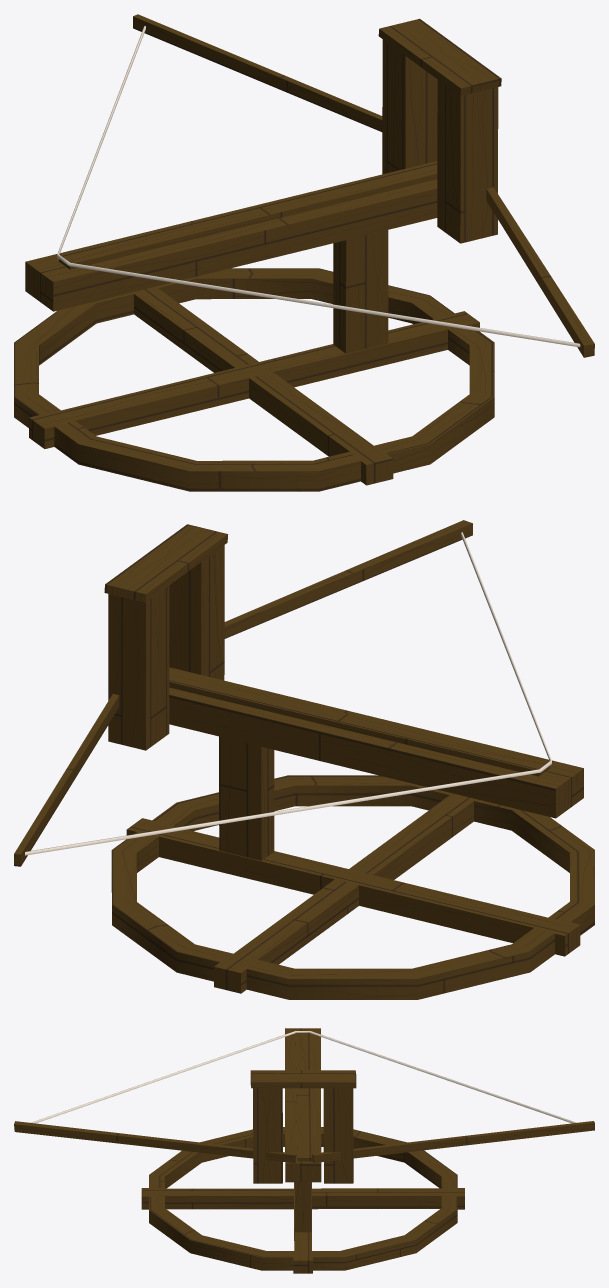
The model's file is Baliste.fbx.
3 renders of one model, top to bottom at view 1: azimuth 30°, elevation 25°; view 2: azimuth 150°, elevation 25°; view 3: azimuth 270°, elevation 25°, orthographic. The views are drawn at different scales.
Parts seen in each view (by area): view 1: Baliste; view 2: Baliste; view 3: Baliste.
Part boxes in pixels (left/top/right/bottom): Baliste: left=14, top=14, right=594, bottom=491; Baliste: left=14, top=520, right=594, bottom=999; Baliste: left=14, top=1028, right=594, bottom=1273.
Size of the model in its own units: 202 by 129 by 364.
